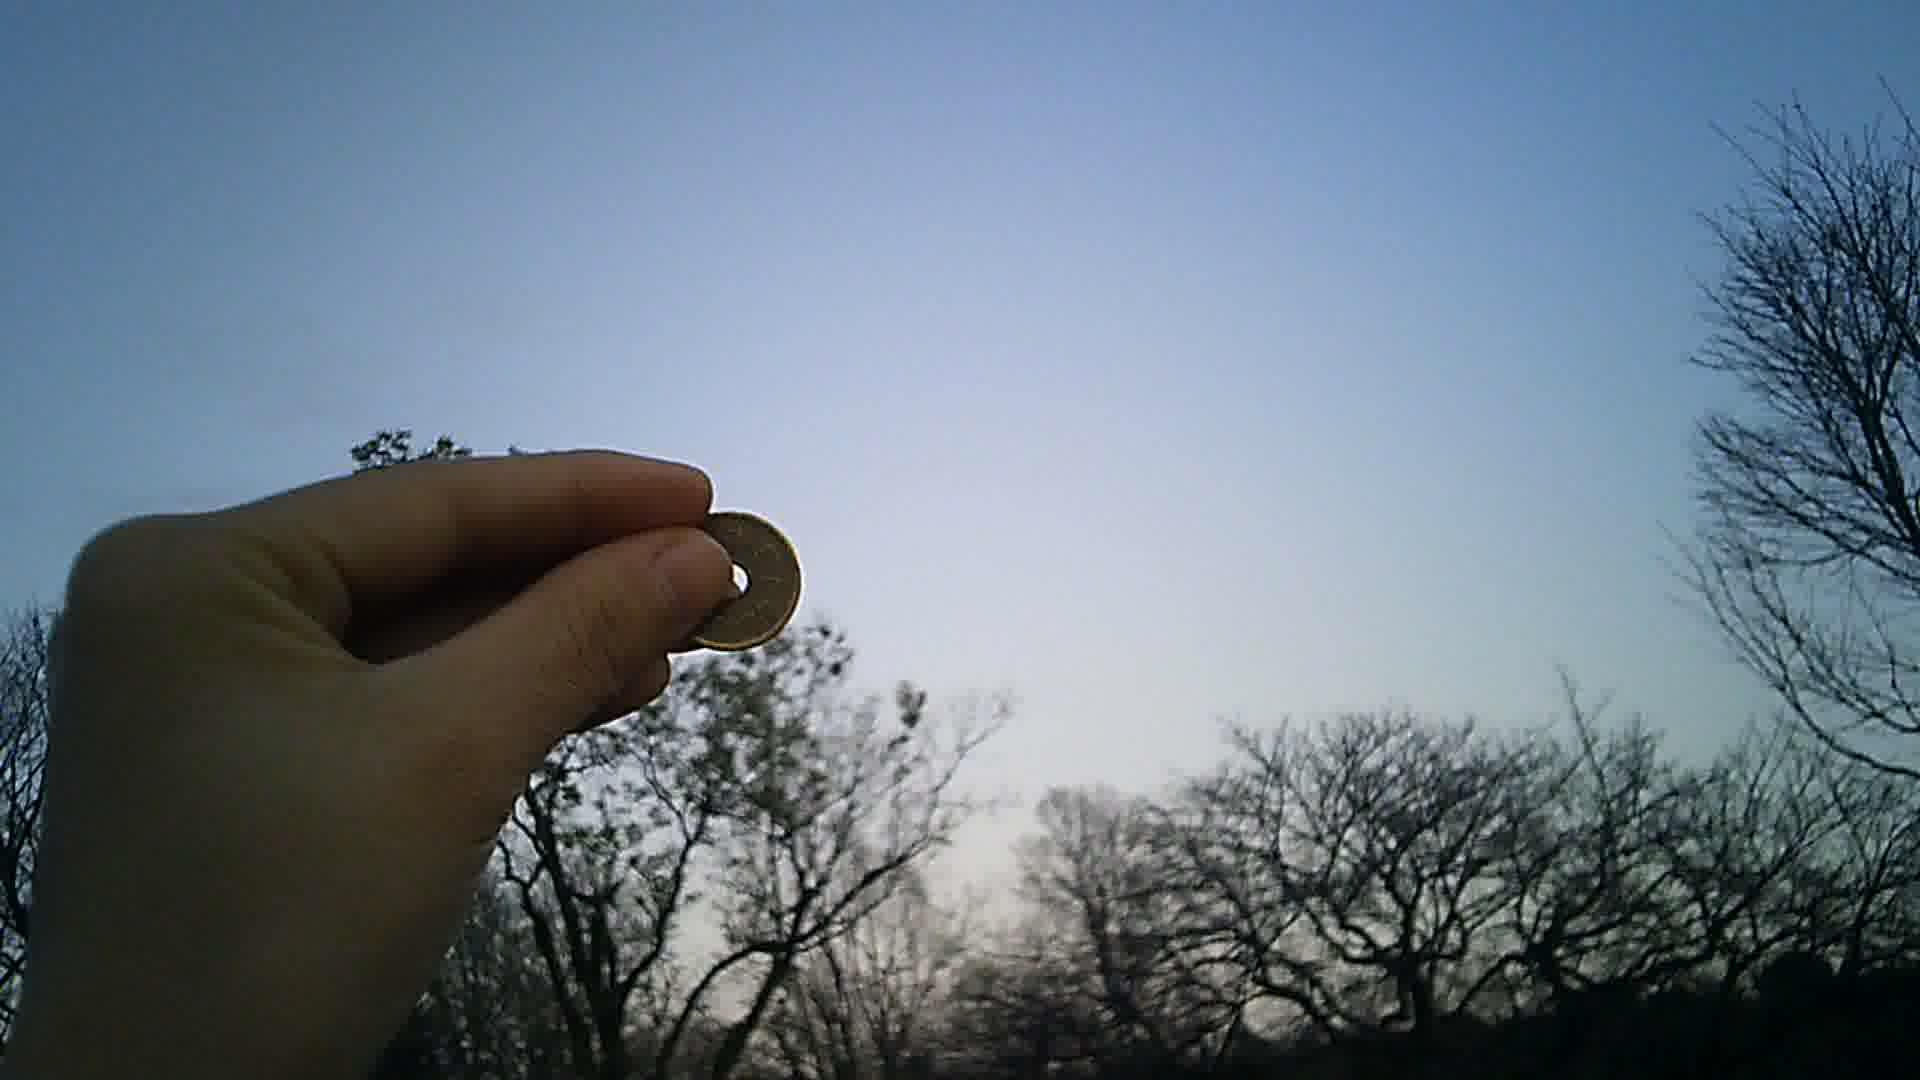5 Yen: (659, 502, 811, 673)
